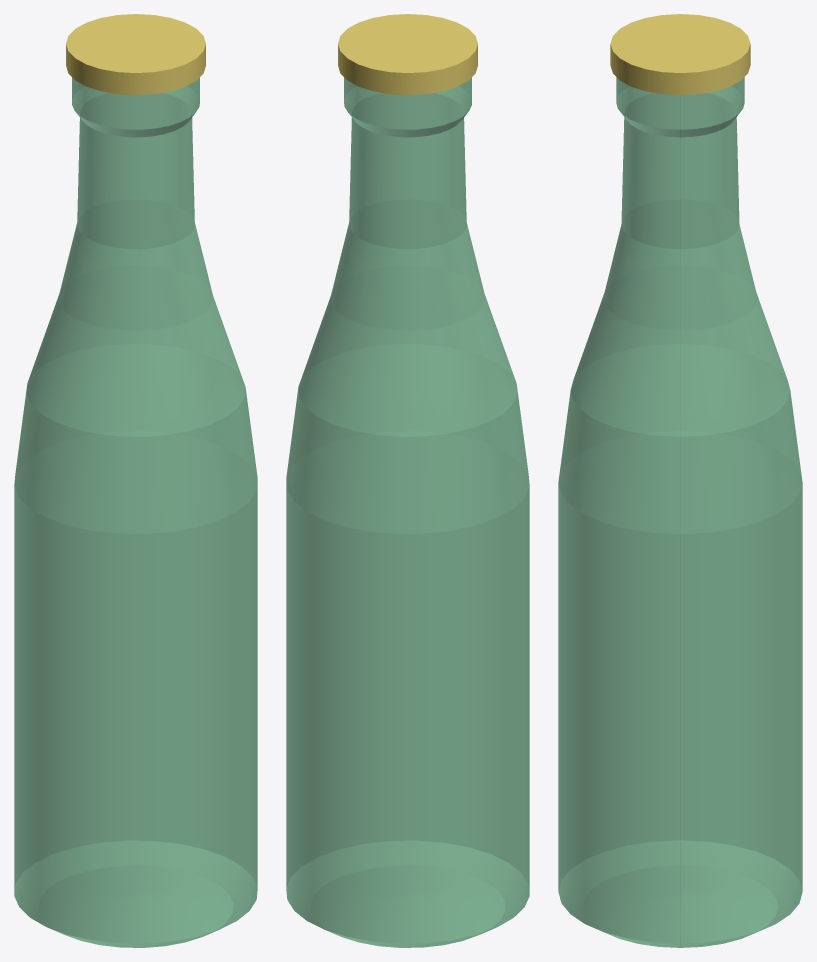
Rendered from botella_vidrio.glb.
3 views of the same model, side by side, from view 1: azimuth 30°, elevation 25°; view 2: azimuth 150°, elevation 25°; view 3: azimuth 270°, elevation 25° (orthographic).
Parts seen in each view (by area): view 1: botella_vidrio_cuerpo, botella_vidrio_chapa; view 2: botella_vidrio_cuerpo, botella_vidrio_chapa; view 3: botella_vidrio_cuerpo, botella_vidrio_chapa.
Part boxes in pixels (x1,y1,x2,y2): botella_vidrio_cuerpo: (14, 77, 257, 947); botella_vidrio_chapa: (66, 14, 205, 95); botella_vidrio_cuerpo: (286, 77, 529, 947); botella_vidrio_chapa: (338, 14, 477, 95); botella_vidrio_cuerpo: (558, 77, 802, 947); botella_vidrio_chapa: (610, 14, 750, 95).
Size of the model in its own units: 0.06 by 0.234 by 0.06.
